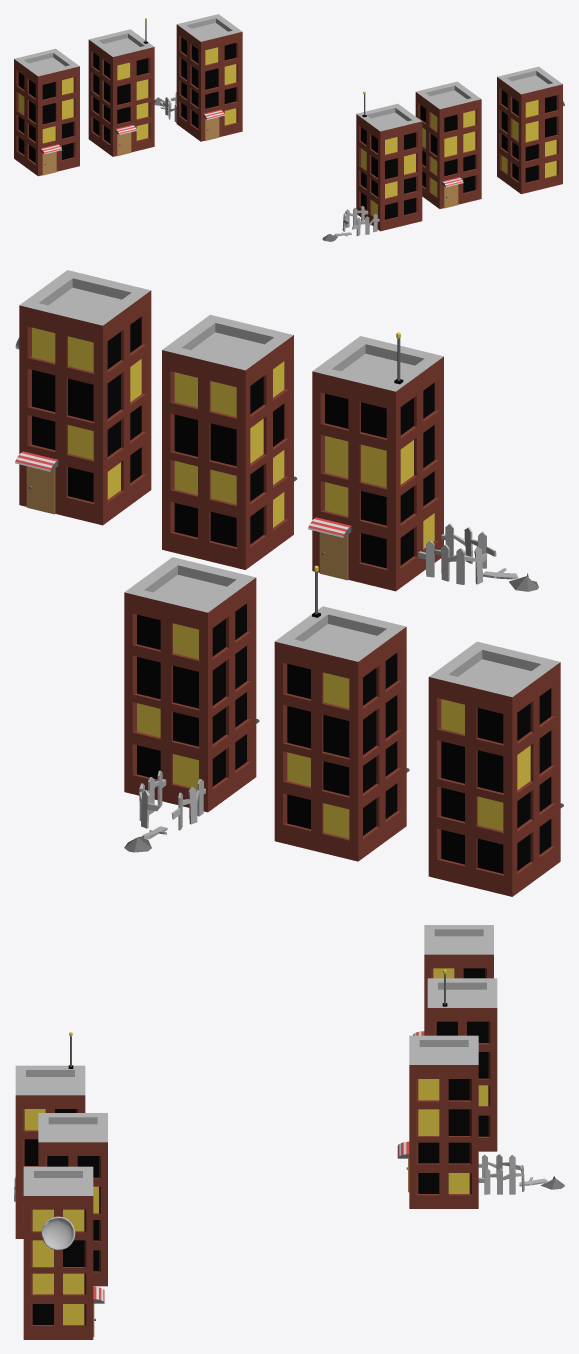
The model's file is houses.glb.
The picture shows the model from 3 angles, top to bottom: view 1: azimuth 30°, elevation 25°; view 2: azimuth 150°, elevation 25°; view 3: azimuth 270°, elevation 25°; orthographic projection. The views are drawn at different scales.
Parts seen in each view (by area): view 1: Дома; view 2: Дома; view 3: Дома.
Part boxes in pixels (x1,y1,x2,y2): Дома: [14, 14, 564, 241]; Дома: [15, 270, 563, 896]; Дома: [14, 925, 564, 1339].
Bounding box in the file's own units: 38.49 × 11.57 × 32.16.
